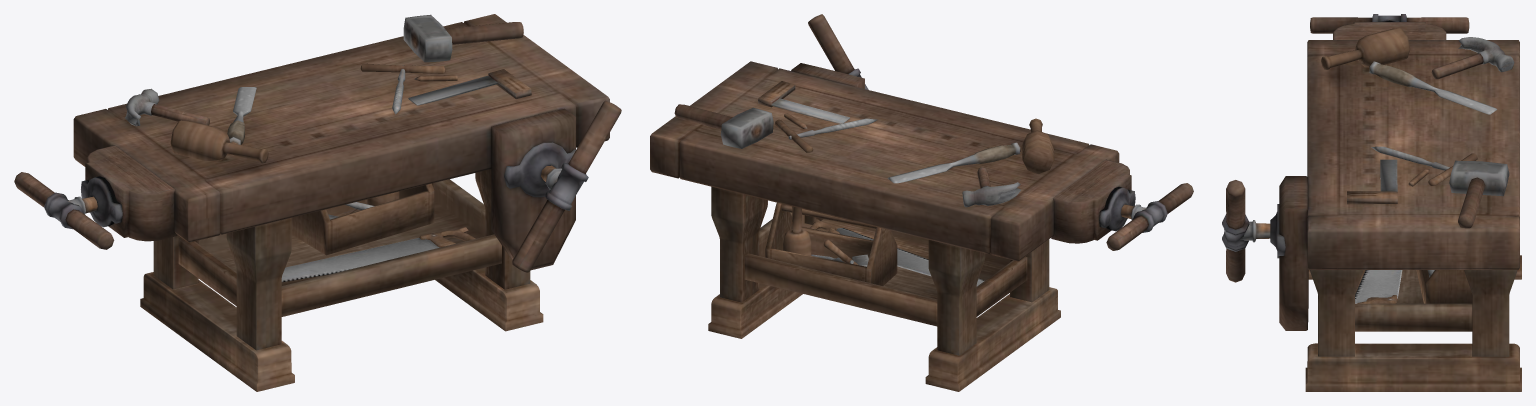
Rendered from carpenter_workbench.glb.
3 renders of one model, left to right at view 1: azimuth 30°, elevation 25°; view 2: azimuth 150°, elevation 25°; view 3: azimuth 270°, elevation 25°, orthographic. The views are drawn at different scales.
Parts seen in each view (by area): view 1: npc_props_workbench_01; view 2: npc_props_workbench_01; view 3: npc_props_workbench_01.
Boxes of the visible parts, x1,y1,x2,y2 form: npc_props_workbench_01: [14, 14, 621, 391]; npc_props_workbench_01: [650, 14, 1193, 391]; npc_props_workbench_01: [1222, 14, 1521, 391].
Bounding box in the file's own units: 2.71 × 1.22 × 1.48.
1 material, 1 textured.
